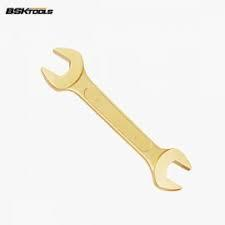wrench: (39, 45, 192, 191)
